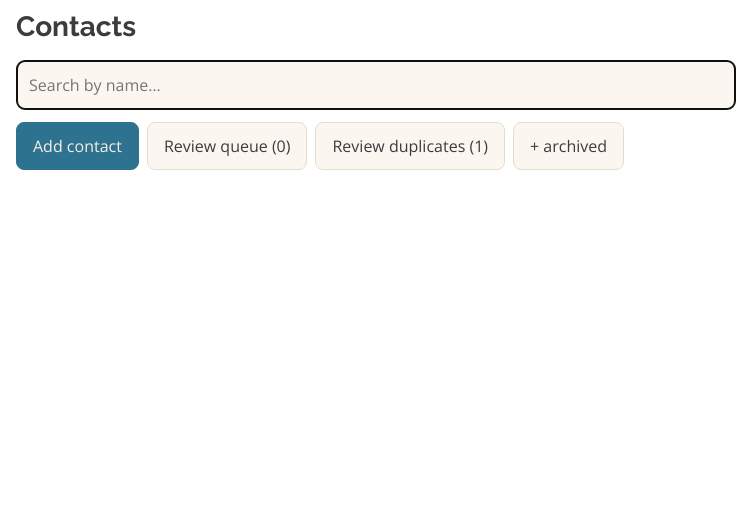
the duplicates worklist row (feature 069, M-R18) › flags a shared household — evidence AGAINST a merge
Click the button "Review duplicates (1)" at point(410, 146), box [316,122,505,170]
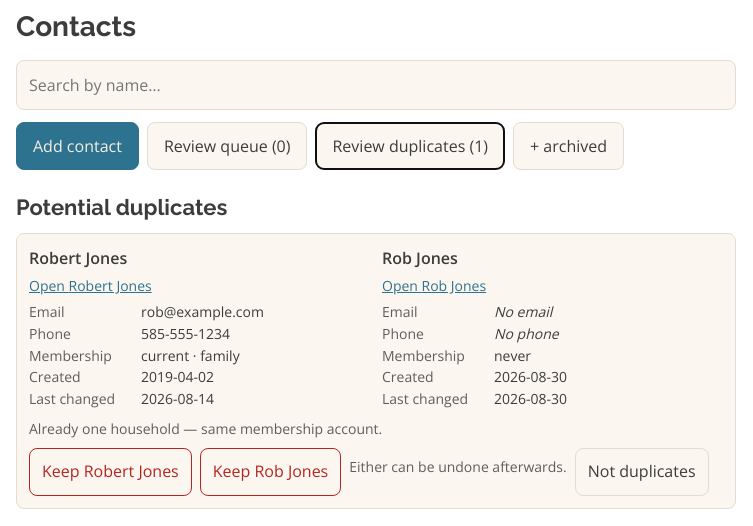
Expected: the text "Already one household — same membership account." is shown, [29,419,382,438]
